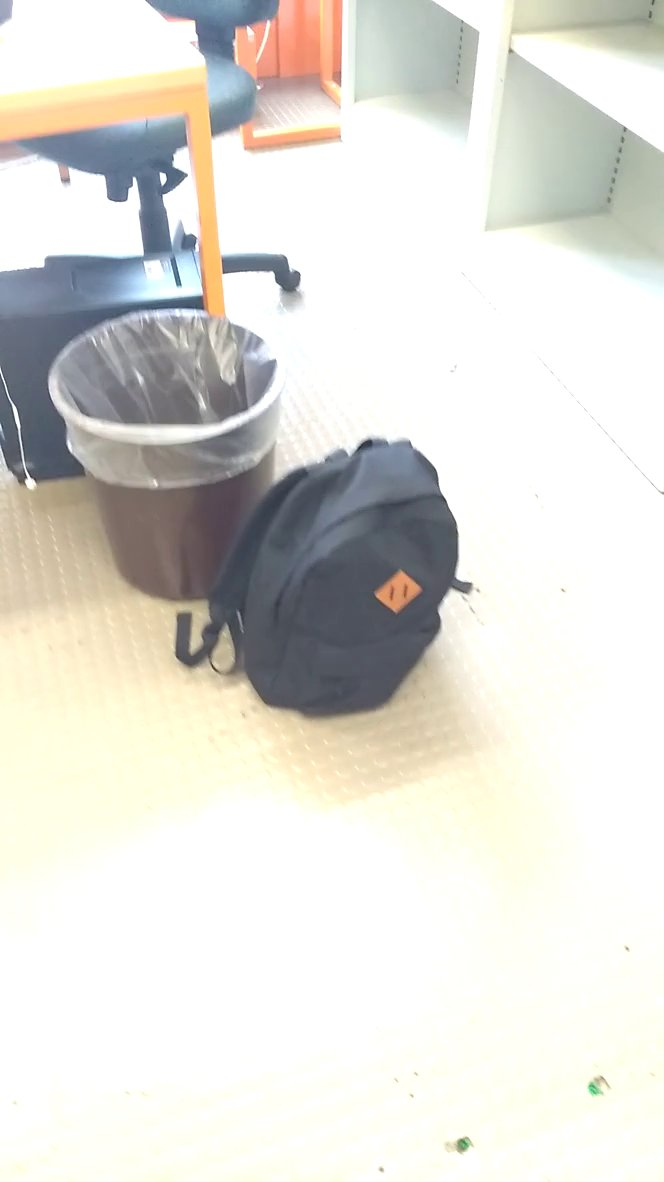bag: (169, 430, 480, 726)
bin: (36, 290, 294, 608)
chair: (15, 1, 312, 256)
